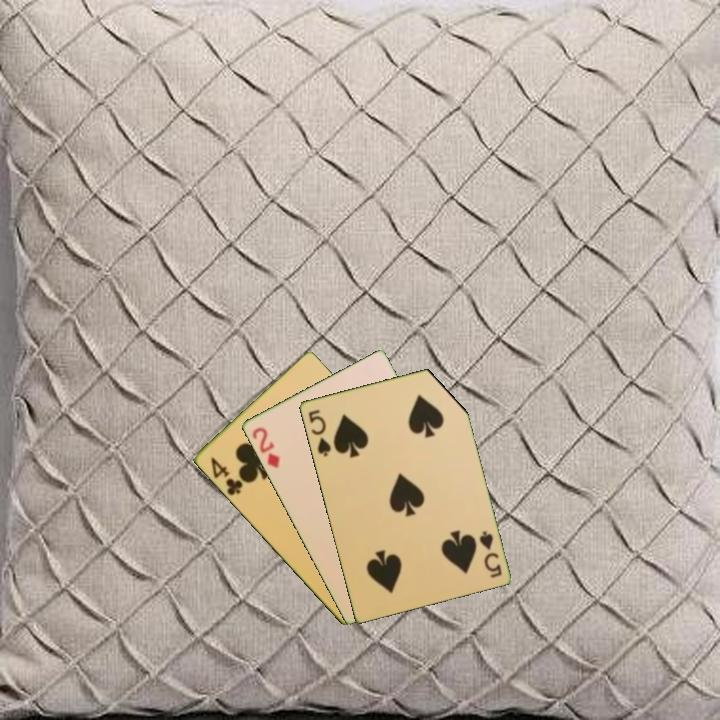2d: (248, 423, 283, 471)
4c: (206, 453, 247, 499)
5s: (304, 406, 334, 459), (475, 527, 504, 581)
